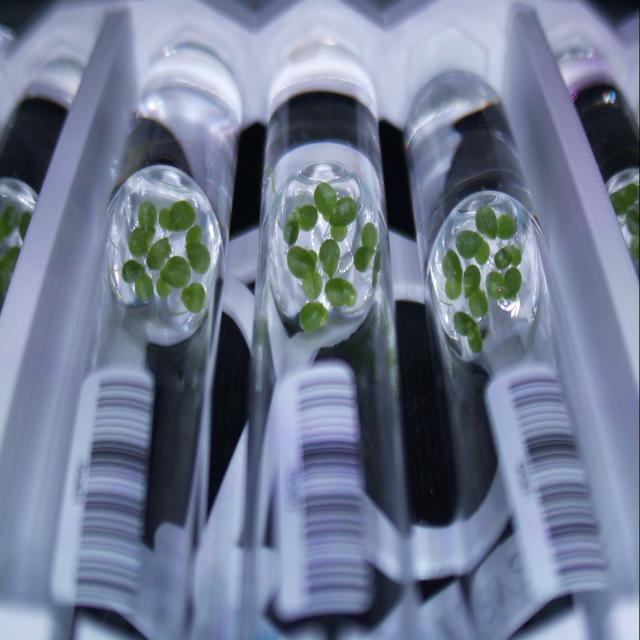Lemna-Gibba: (160, 255, 191, 289), (325, 277, 356, 307), (288, 245, 315, 279), (314, 182, 338, 220), (299, 302, 328, 332), (169, 200, 196, 232), (146, 237, 171, 270), (319, 238, 340, 277), (128, 227, 155, 257), (181, 282, 206, 314), (455, 230, 482, 259), (330, 197, 356, 227), (186, 242, 210, 274), (475, 205, 498, 238), (441, 248, 462, 282), (295, 205, 318, 232), (462, 265, 481, 297), (302, 270, 322, 300), (121, 259, 145, 284), (135, 272, 154, 302), (354, 245, 375, 272), (504, 267, 521, 300), (469, 289, 489, 317), (138, 200, 158, 228), (486, 272, 505, 300), (454, 312, 476, 335), (284, 215, 299, 245), (498, 213, 516, 238), (361, 222, 378, 248), (468, 325, 482, 354), (475, 240, 490, 265), (494, 247, 511, 269), (371, 250, 381, 287), (156, 275, 171, 299), (445, 279, 461, 300), (186, 225, 202, 245), (330, 225, 348, 242), (159, 207, 170, 230), (511, 247, 521, 267), (308, 250, 318, 264)
